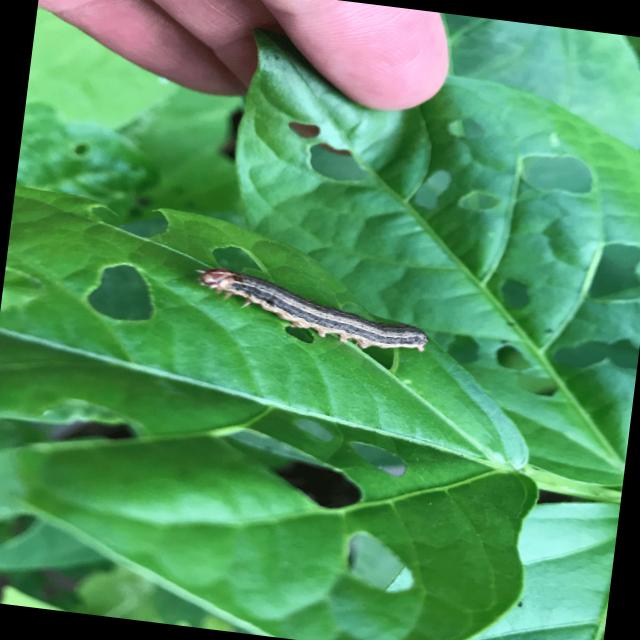Armyworm: (189, 244, 442, 365)
Armyworm_damage: (199, 423, 400, 519), (78, 249, 181, 337), (499, 137, 625, 207), (326, 518, 421, 608), (574, 206, 640, 324), (544, 316, 640, 388), (67, 194, 191, 248), (390, 153, 478, 224), (274, 402, 362, 458), (341, 430, 421, 489), (299, 138, 380, 189), (428, 107, 505, 157), (484, 267, 546, 323), (453, 178, 515, 225), (206, 236, 279, 274), (484, 332, 539, 379), (438, 321, 484, 374), (509, 363, 567, 404), (278, 109, 330, 153), (281, 328, 311, 345)
